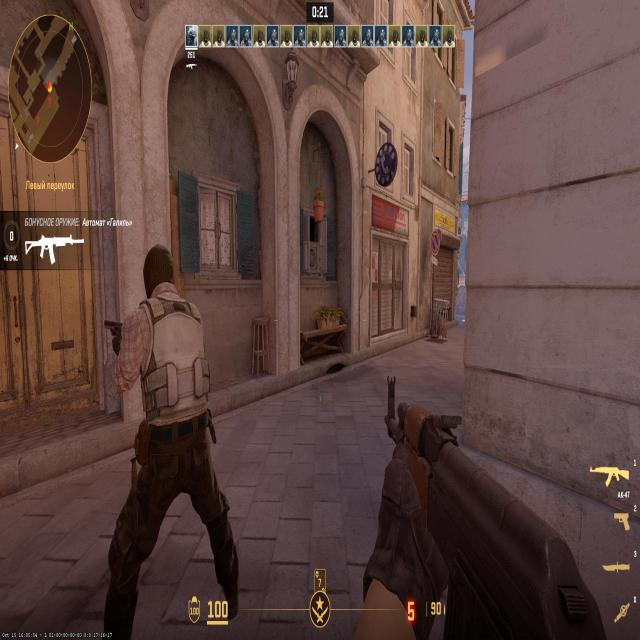T: (135, 256, 204, 479)
T_heat: (150, 266, 168, 303)
